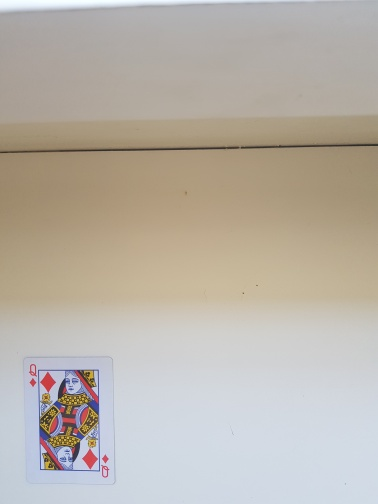queen: (23, 355, 113, 486)
